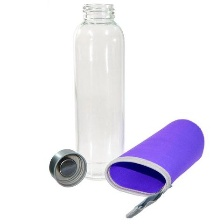bottle: (68, 1, 132, 184)
